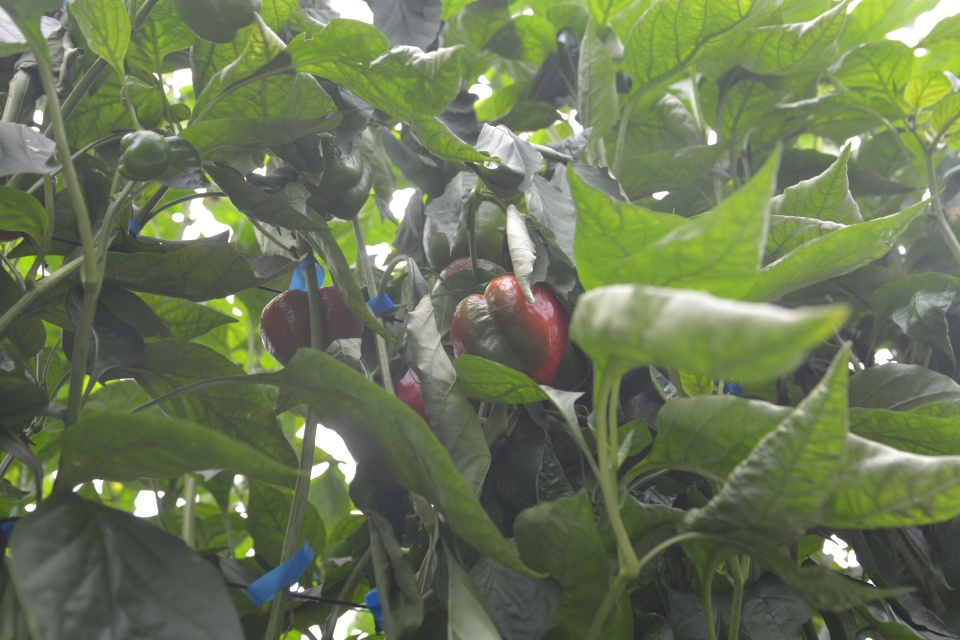fruit: (448, 273, 570, 386), (259, 283, 366, 368), (420, 190, 508, 273), (300, 130, 374, 221), (172, 0, 262, 45), (116, 128, 172, 182)
